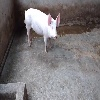heo: (23, 6, 63, 55)
